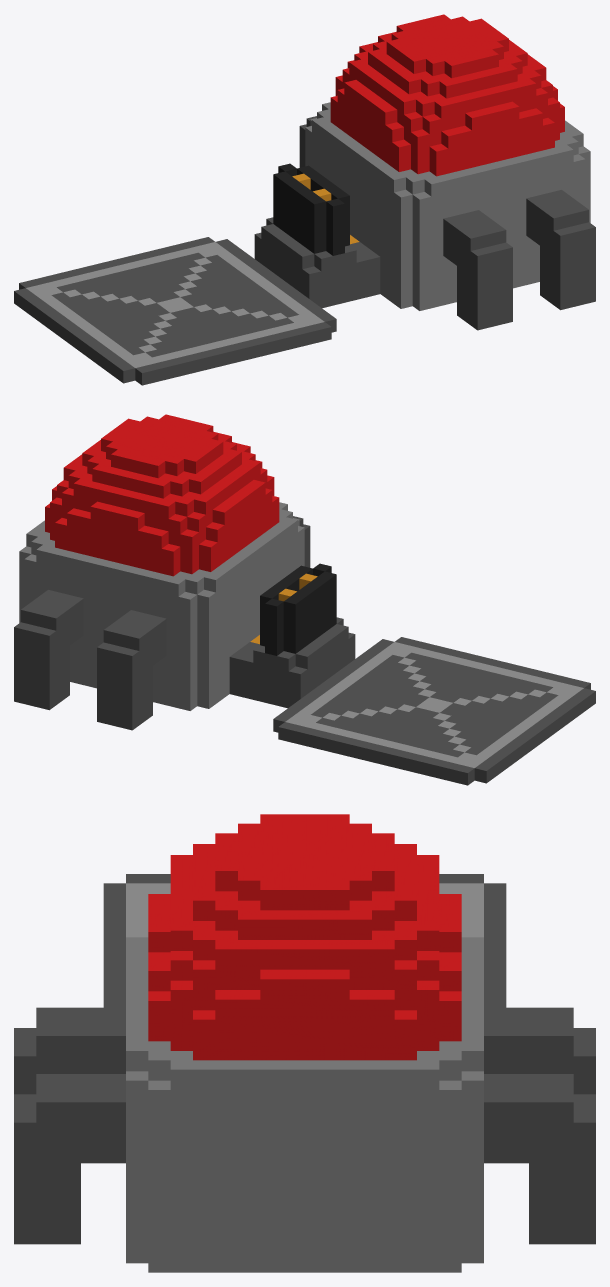
Rendered from GORODITH_connector_off.obj.
The picture shows the model from 3 angles, top to bottom: view 1: azimuth 30°, elevation 25°; view 2: azimuth 150°, elevation 25°; view 3: azimuth 270°, elevation 25°; orthographic projection. The views are drawn at different scales.
Size of the model in its own units: 4 by 1.7 by 2.6.
Materials: 1 (1 with a texture image).
